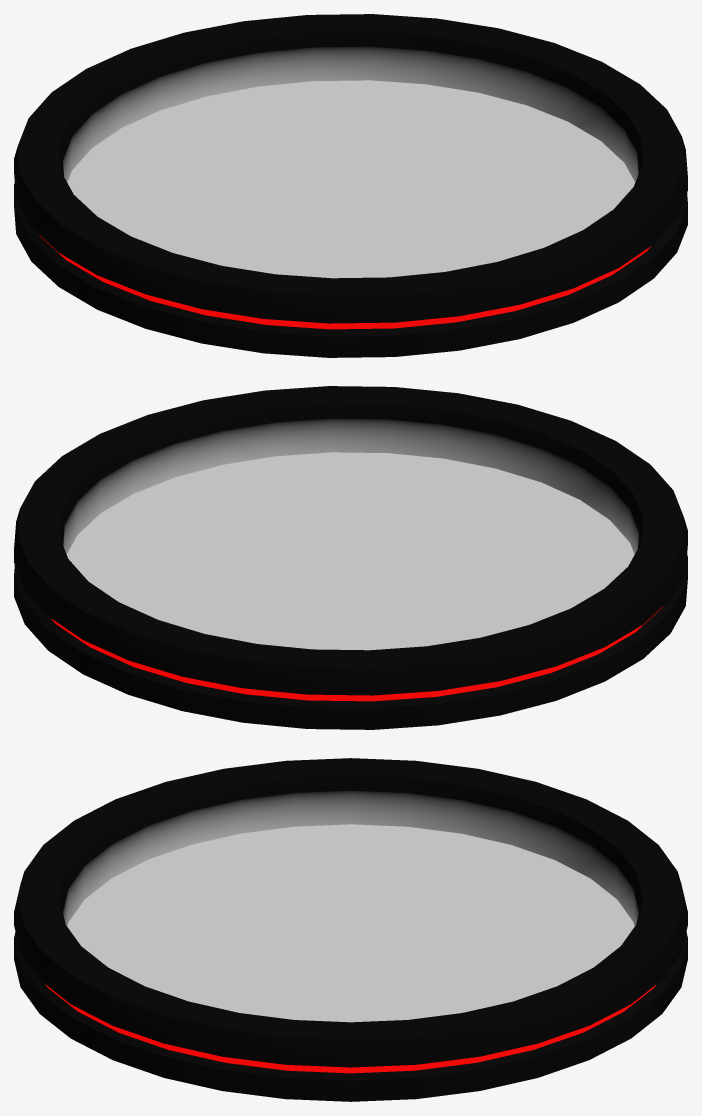
The model's file is hoverpad_pow.glb.
3 views of the same model, one above another, from view 1: azimuth 30°, elevation 25°; view 2: azimuth 150°, elevation 25°; view 3: azimuth 270°, elevation 25° (orthographic).
Visible parts, largest first — view 1: hoverpad_pow; view 2: hoverpad_pow; view 3: hoverpad_pow.
Boxes of the visible parts, left/top/right/bottom form: hoverpad_pow: left=14, top=14, right=687, bottom=357; hoverpad_pow: left=14, top=386, right=687, bottom=729; hoverpad_pow: left=14, top=758, right=687, bottom=1101.
Size of the model in its own units: 0.14 by 0.0139 by 0.14.
